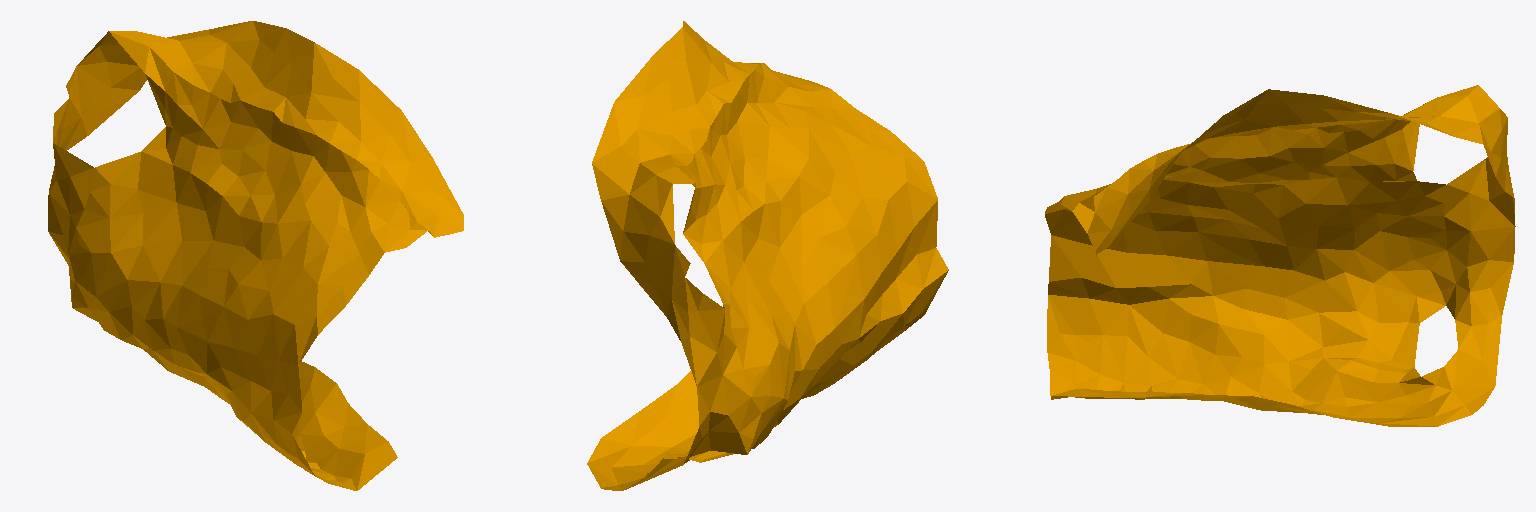
robot.urdf — init:
<?xml version='1.0' encoding='utf-8'?>
<robot name="init">
<link name="link_0"><inertial><mass value="1.0" /><origin rpy="0 0 0" xyz="0.000000 0.000000 0.000000" /><inertia ixx="1.0" ixy="0.0" ixz="0.0" iyy="1.0" iyz="0.0" izz="1.0" /></inertial><visual><origin rpy="0 0 0" xyz="0.000000 0.000000 0.000000" /><geometry><mesh filename="./clothHuman/cloth/2644.obj" /></geometry></visual><collision><origin rpy="0 0 0" xyz="0.000000 0.000000 0.000000" /><geometry><mesh filename="./clothHuman/cloth/2644.obj" /></geometry></collision></link></robot>

--- Render facts (derived) ---
3 views of the same robot in one strip: view 1: azimuth 30°, elevation 25°; view 2: azimuth 150°, elevation 25°; view 3: azimuth 270°, elevation 25° (orthographic).
Model init with 1 links and 0 joints (none), rooted at link_0, posed every joint at zero.
Links seen in each view (by area): view 1: link_0; view 2: link_0; view 3: link_0.
Link boxes in pixels (<box>): link_0: <box>48,21,463,490</box>; link_0: <box>587,21,948,490</box>; link_0: <box>1045,85,1515,426</box>.
Size in the robot's own frame: 2.02 by 3.76 by 3.05 metres.
1 mesh visuals loaded from 1 distinct referenced files (1 OBJ).